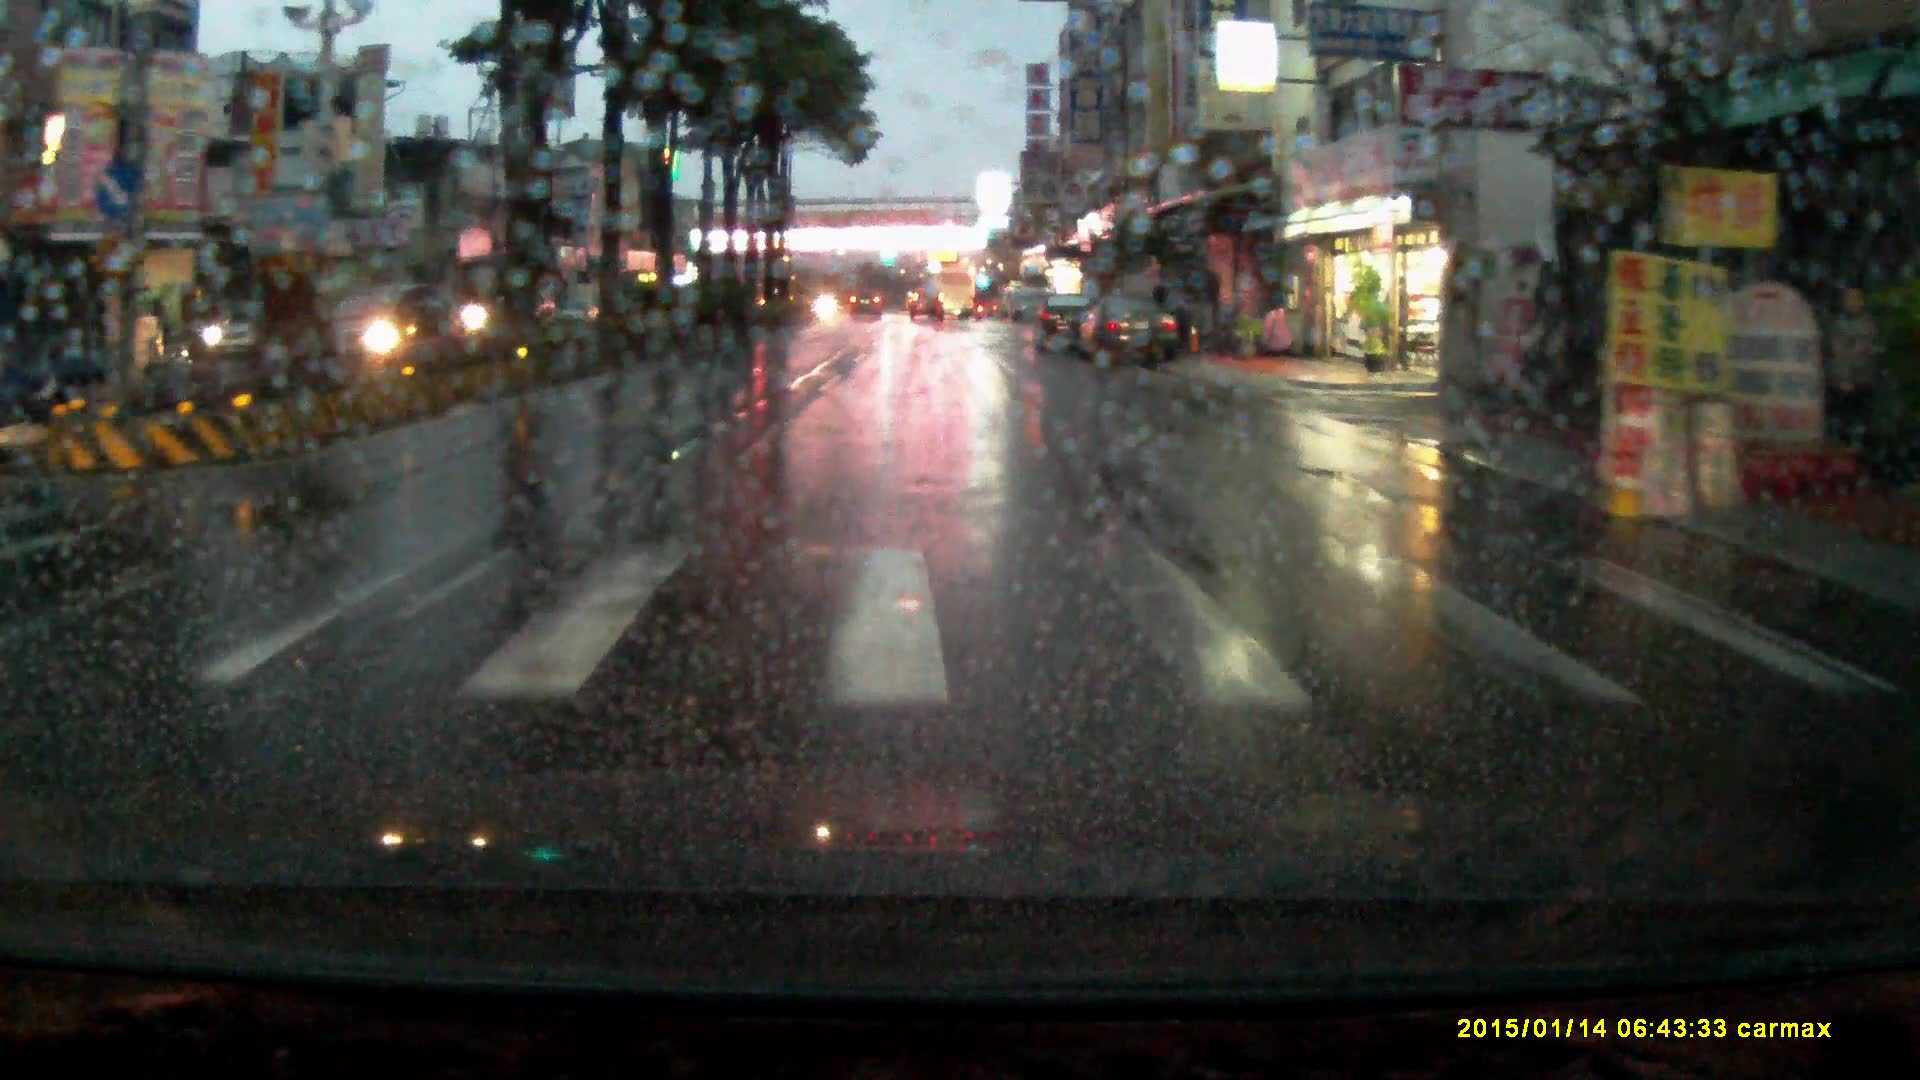rider: (455, 252, 520, 368)
vehicle: (1, 230, 198, 415), (318, 281, 470, 367), (1074, 299, 1182, 375), (203, 307, 272, 366), (1035, 297, 1095, 356), (925, 259, 974, 321), (911, 290, 947, 326), (850, 290, 882, 321)
